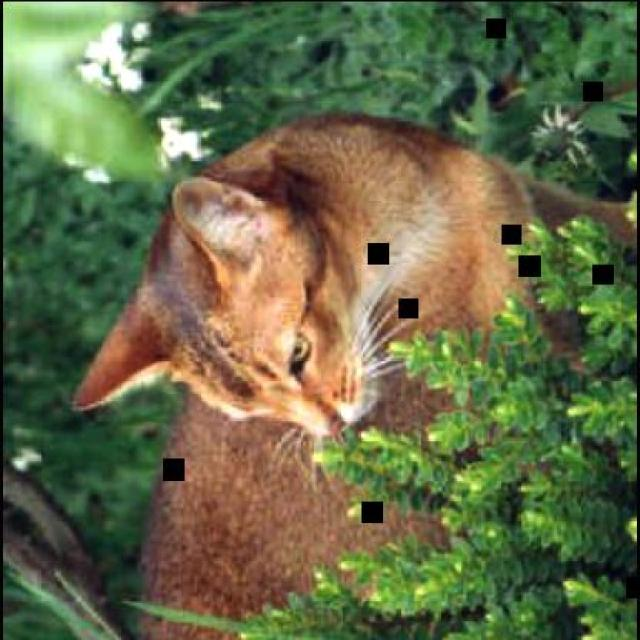unauthorized: (70, 108, 636, 477)
